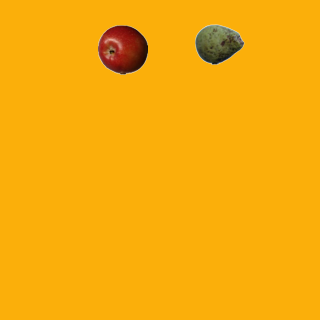Apple Braeburn: (97, 24, 147, 74)
Pear Stone: (194, 19, 244, 69)
